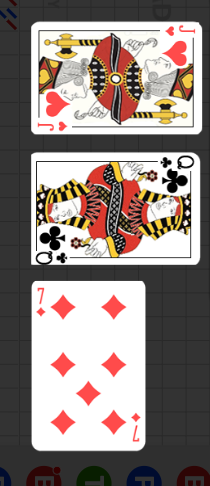7D: (34, 286, 47, 319), (130, 411, 142, 443)
JH: (36, 120, 69, 133)
QC: (31, 219, 78, 263), (152, 152, 198, 196)
